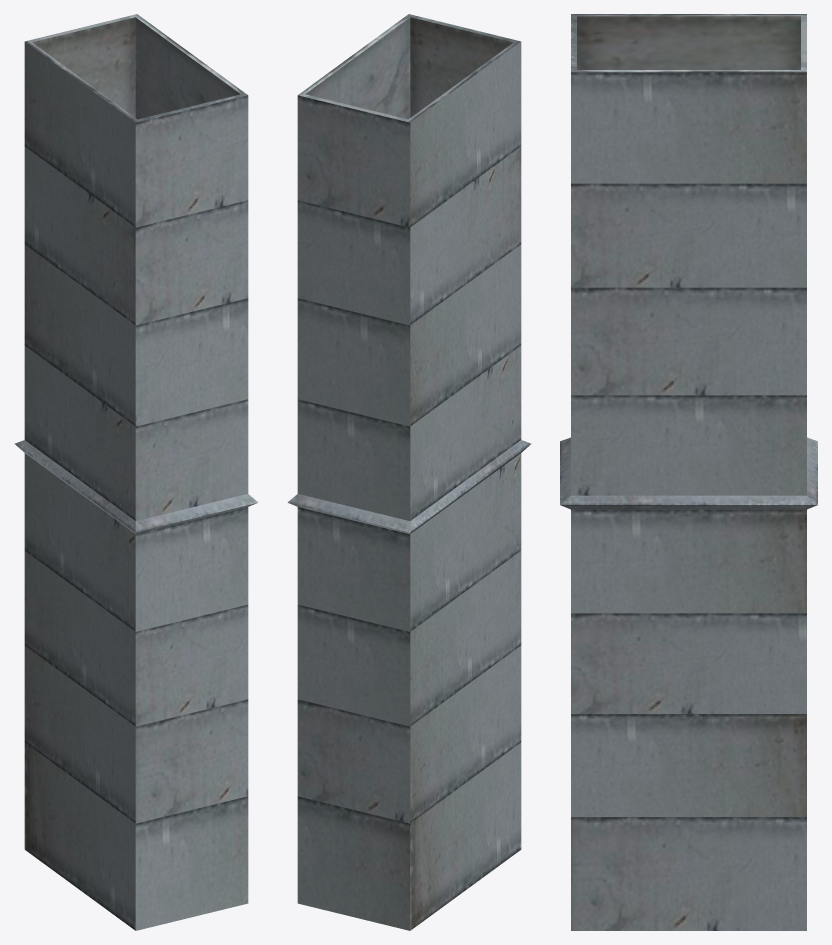
The model's file is Prop2.fbx.
3 renders of one model, left to right at view 1: azimuth 30°, elevation 25°; view 2: azimuth 150°, elevation 25°; view 3: azimuth 270°, elevation 25°, orthographic. The views are drawn at different scales.
Visible parts, largest first — view 1: Prop2; view 2: Prop2; view 3: Prop2.
Part boxes in pixels (box(x1,y1,x2,y2)): Prop2: box(14, 14, 258, 930); Prop2: box(287, 14, 531, 930); Prop2: box(560, 14, 817, 930).
Bounding box in the file's own units: 58.25 × 366 × 99.65.
